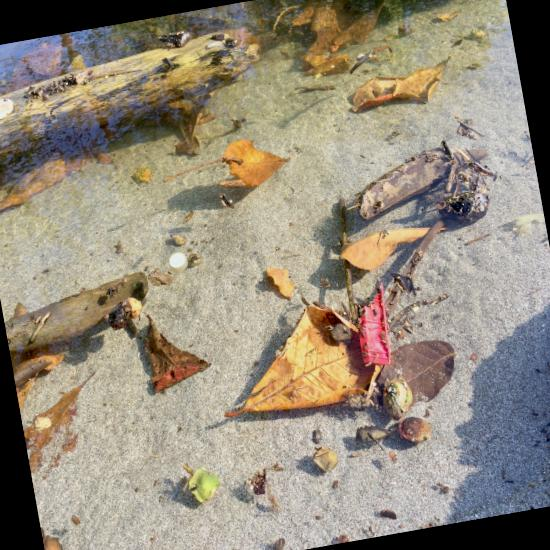Other plastic bottle: (358, 282, 390, 364)
Plastic bottle cap: (169, 251, 188, 272)
